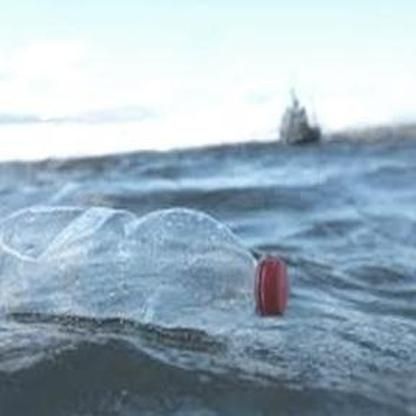plastic bottle: (1, 208, 289, 328)
